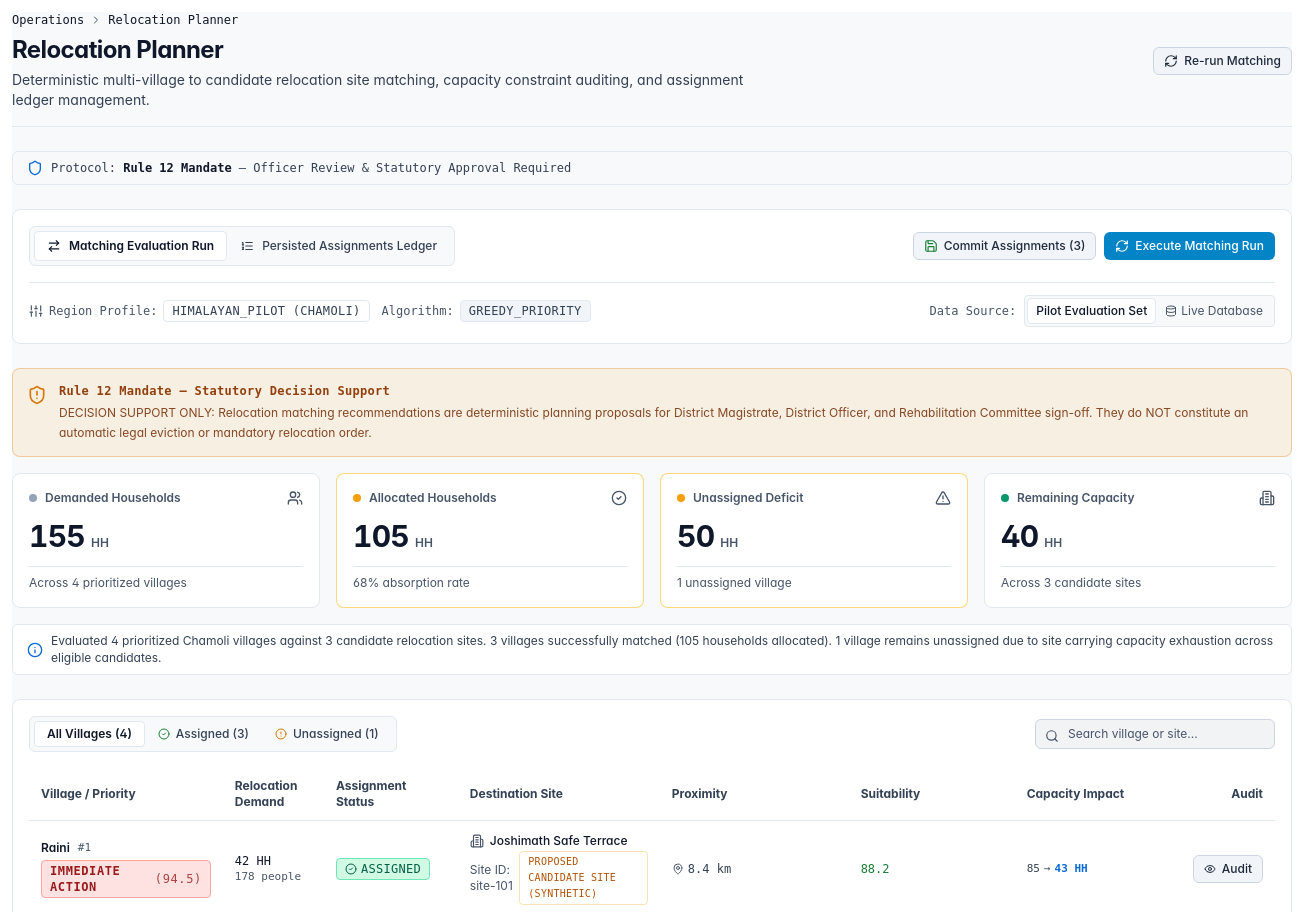
Test case: Relocation Planner Workflow UI Suite (Chunk M6-02) › View Mode Switching & Persisted Ledger › switches between Matching Evaluation and Persisted Assignments Ledger
Click the tab "Persisted Assignments Ledger": [339, 246] box 227,231 -> 450,261
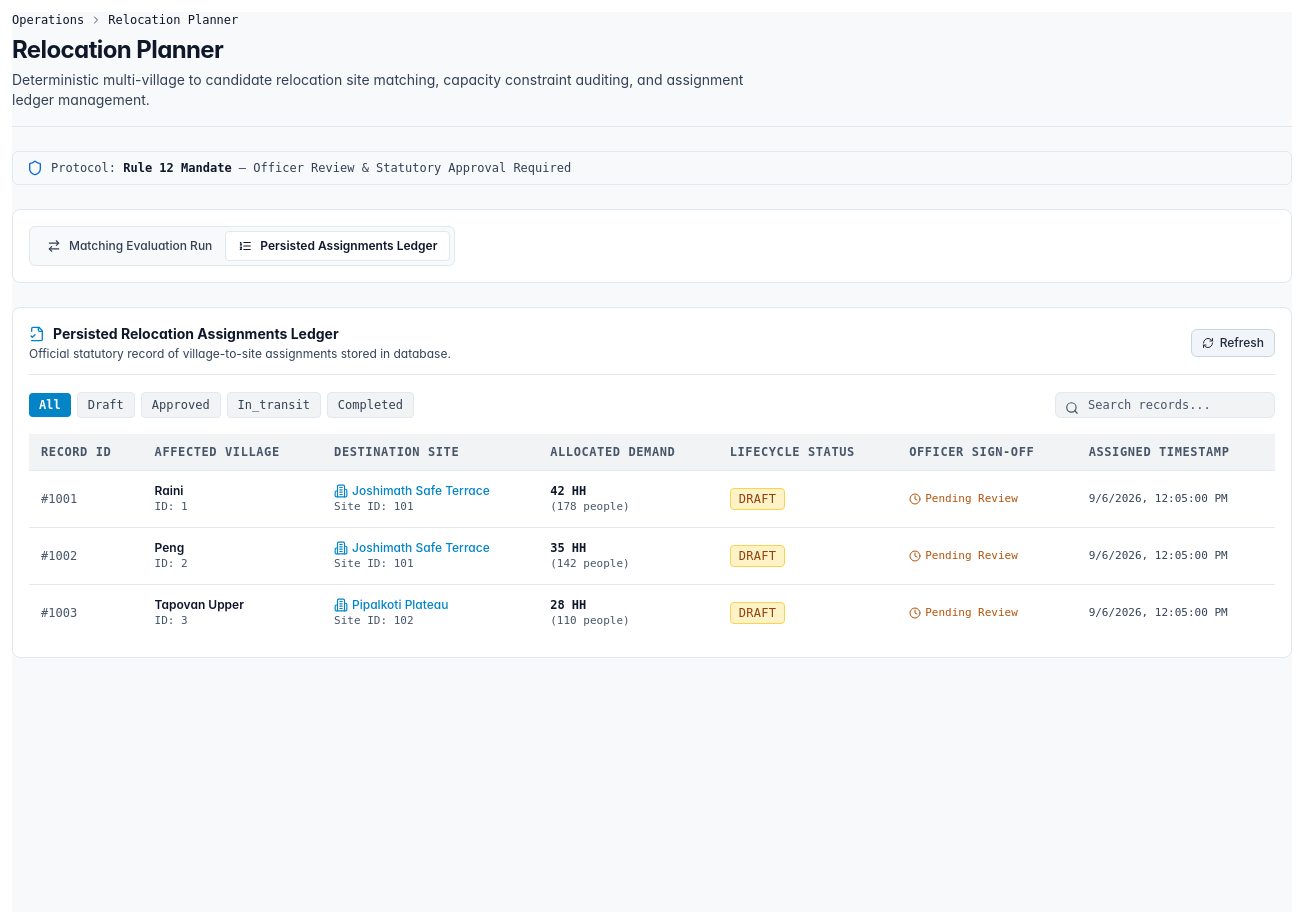
expect the text "Persisted Relocation Assignments Ledger" is shown: met, box 53,324 -> 339,344
expect the text "#1001" is shown: met, box 29,470 -> 143,528
expect the text "#1002" is shown: met, box 29,528 -> 143,584
# Switch back to matching run
Click the tab "Matching Evaluation Run": [130, 246] box 34,231 -> 225,261
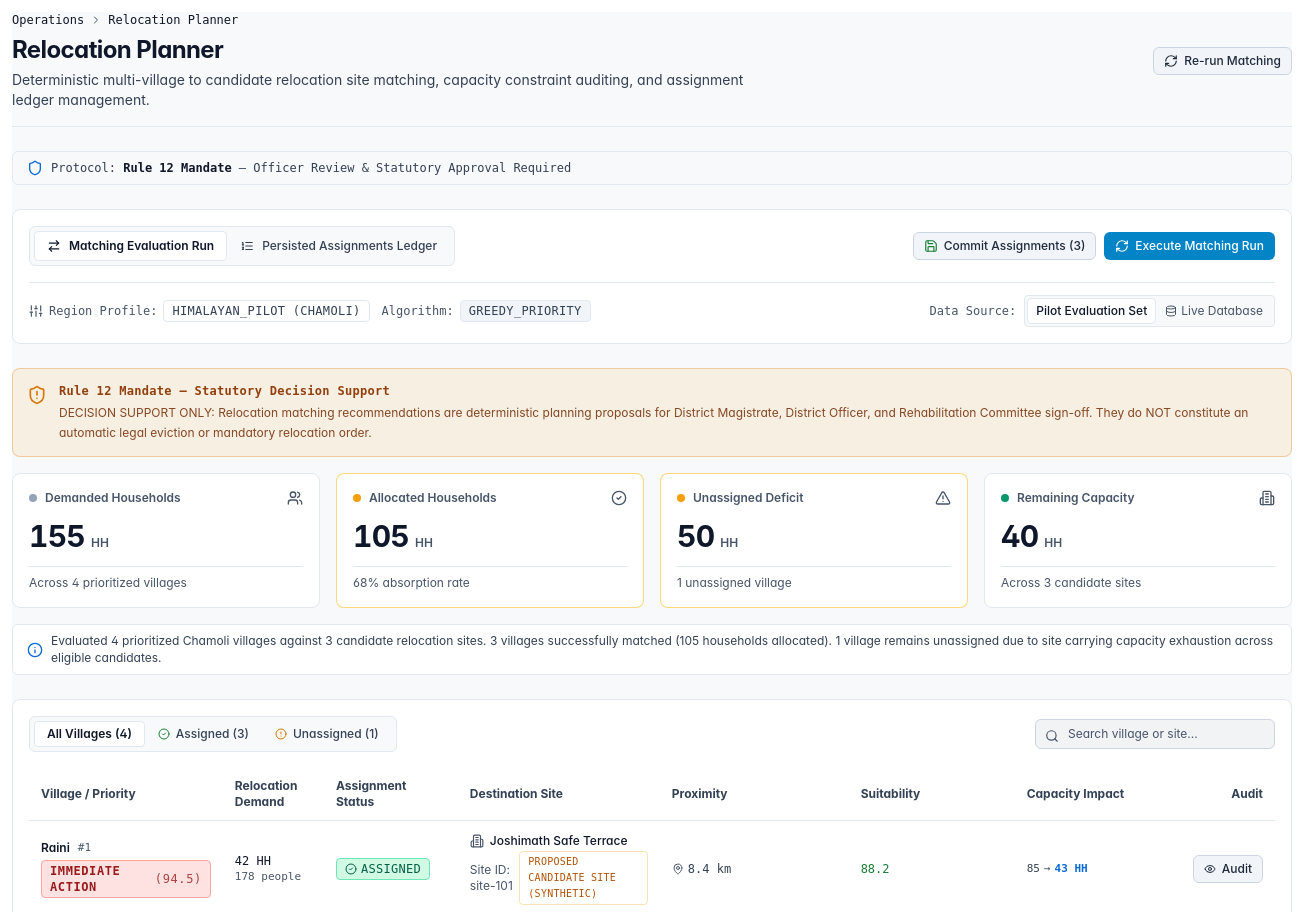
expect the text "Demanded Households" is shown: met, box 45,490 -> 181,506
